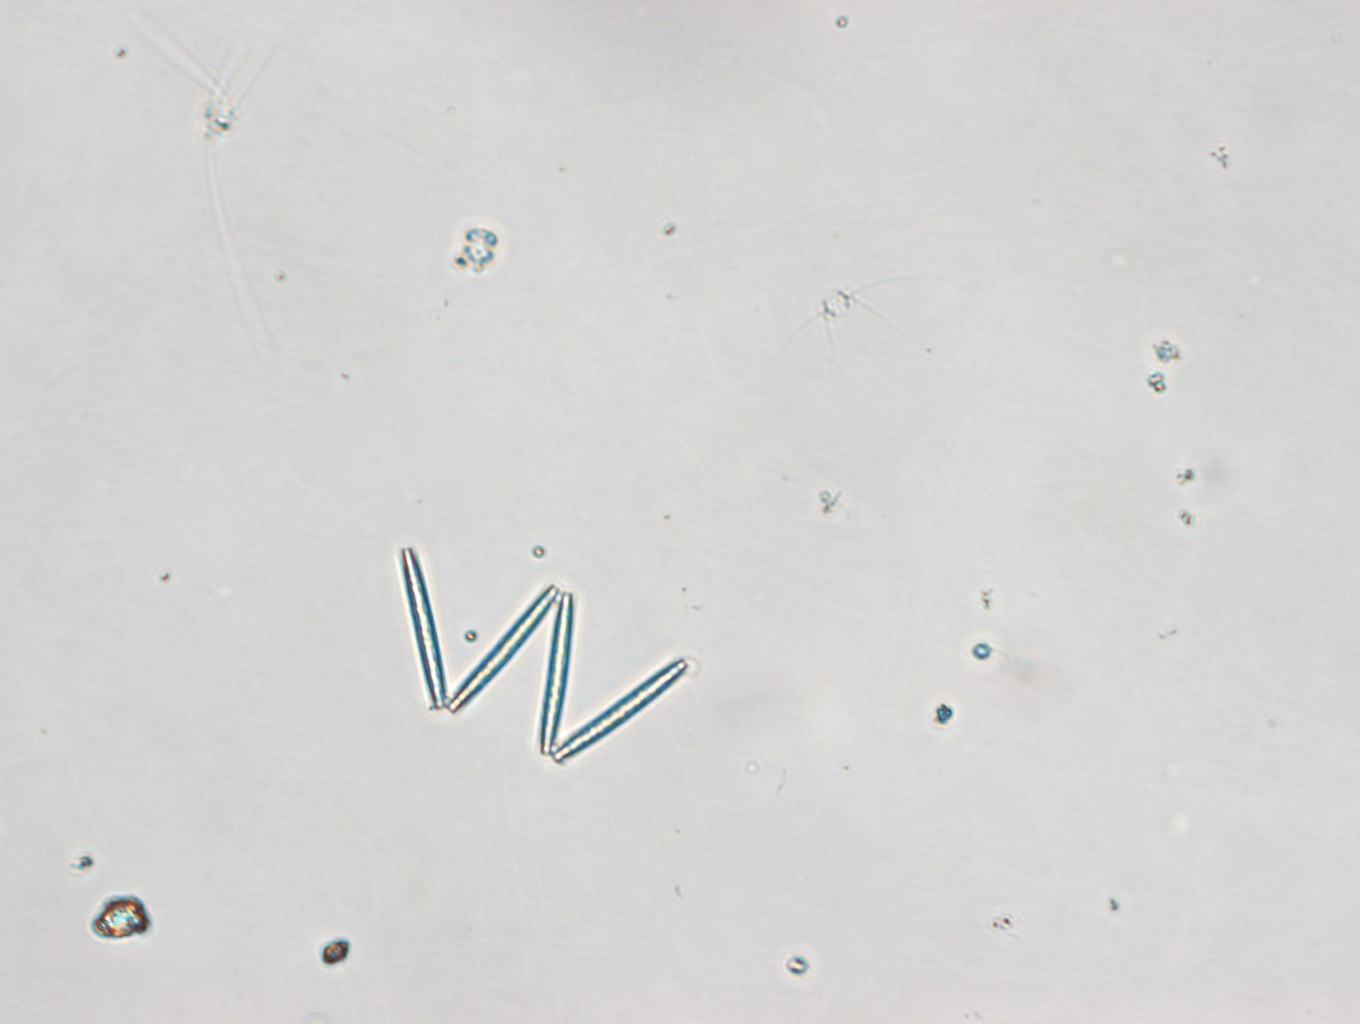thalassionema nitzschioides: (390, 541, 695, 771)
